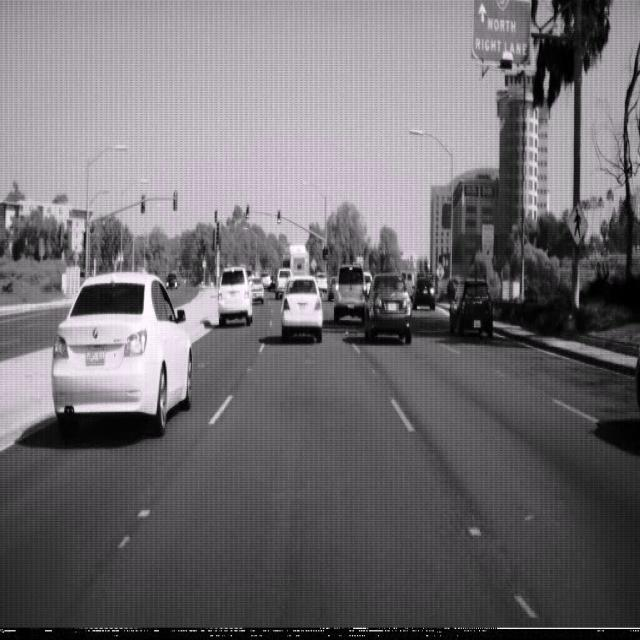pedestrianCrossing: (566, 199, 588, 245)
